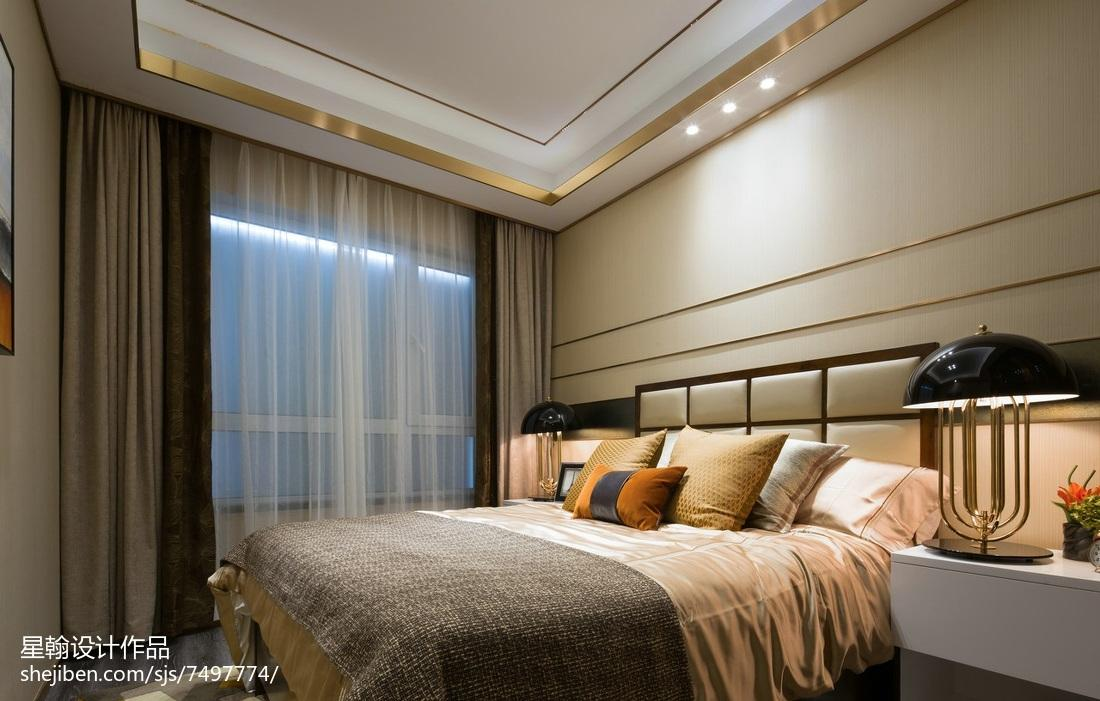床: (225, 503, 943, 695)
枕头: (568, 429, 942, 532)
灯: (904, 321, 1077, 565), (516, 394, 577, 504), (683, 121, 708, 142), (762, 74, 787, 94), (724, 99, 746, 116)
